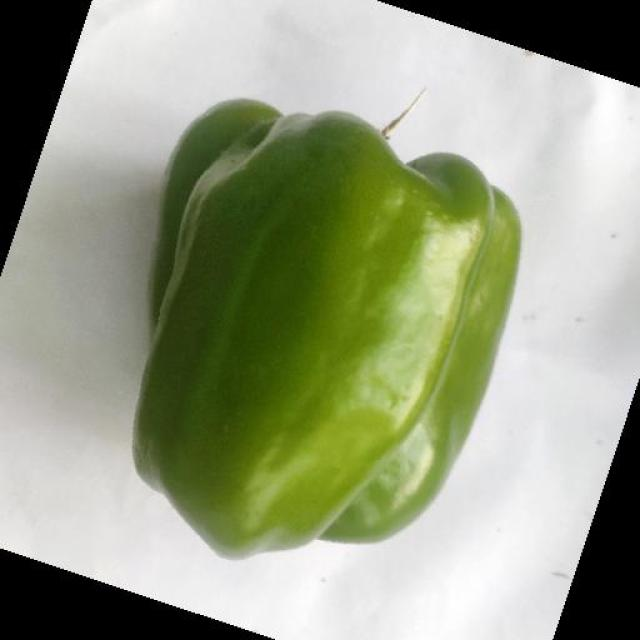Fresh_Capsicum: (144, 106, 523, 589)
